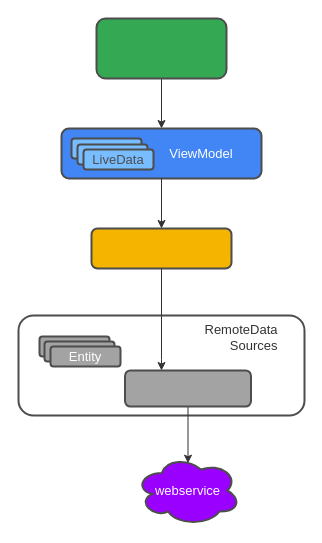
The diagram is 322 pixels wide and 543 high, and some of its shapes have lost their labels. The shapes that lost their labels are listed below. From the top down, each one's centre as x and y in pixels, then its label:
At [161,48]: "UI Controller (activity/fragment)".
At [161,248]: "Repository".
At [188,388]: "API".
